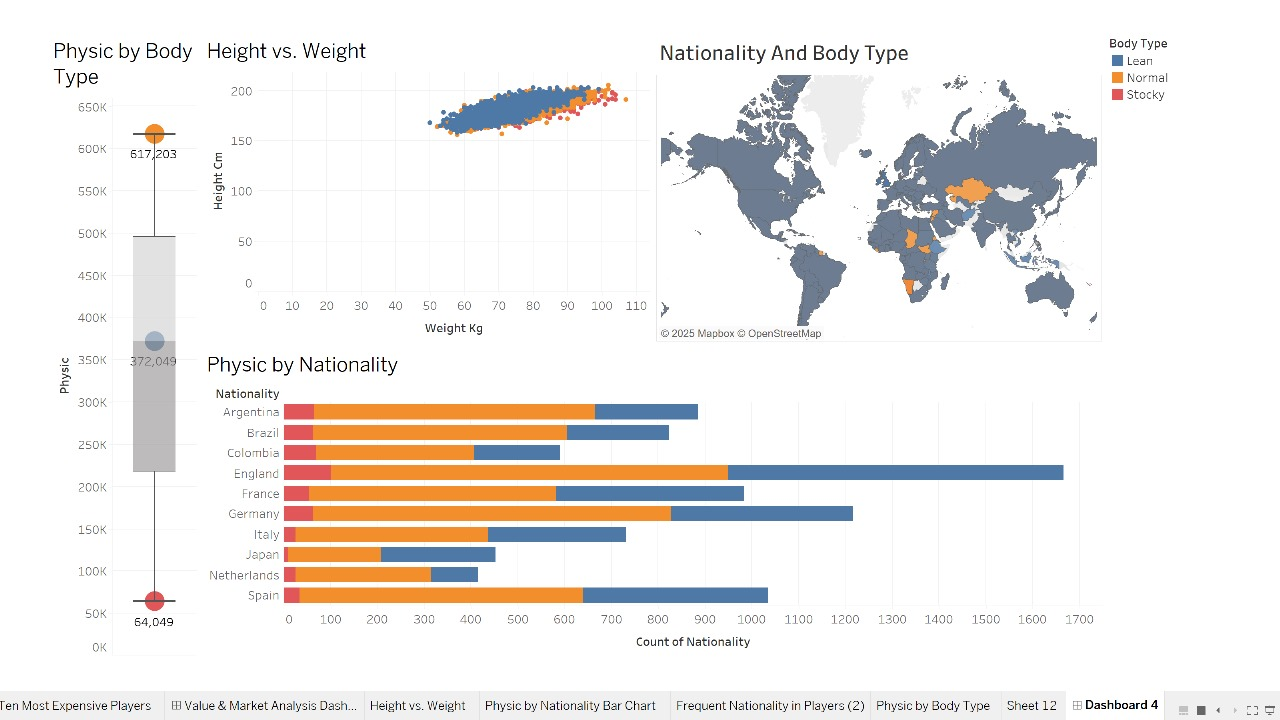

The dashboard page shown, as its layout file describes it:
{"tool":"tableau","page":{"name":"Dashboard 4","canvas":[1500,800],"ordinal":0},"visuals":[{"type":"worksheet","title":"Physic by Body Type","mark":"Circle","rows":["physic"],"box":[8,8,194,784]},{"type":"worksheet","title":"Height vs. Weight ","mark":"Shape","rows":["height_cm"],"cols":["weight_kg"],"box":[202,8,564.9,392]},{"type":"worksheet","title":"Frequent Nationality in Players (2)","mark":"Multipolygon","box":[766.9,8,565,392]},{"type":"legend","title":"Height vs. Weight ","param":"[federated.0kvdf3o0mcrkr81ehyua61jd9mji].[none:body_type:nk]","box":[1332,8,160,93]},{"type":"worksheet","title":"Physic by Nationality Bar Chart","mark":"Automatic","rows":["nationality"],"cols":["nationality"],"box":[202,400,1130,392]}]}

Visuals, with their boxes on the page's 1500x800 design canvas (x1, y1, x2, y2). These are canvas units, not pixel positions in the 1280x720 screenshot, which may show the page scaled, cropped or inside an application window:
"Physic by Body Type" worksheet (Circle marks): 8 8 202 792
"Height vs. Weight " worksheet (Shape marks): 202 8 767 400
"Frequent Nationality in Players (2)" worksheet (Multipolygon marks): 767 8 1332 400
"Height vs. Weight " legend: 1332 8 1492 101
"Physic by Nationality Bar Chart" worksheet: 202 400 1332 792
